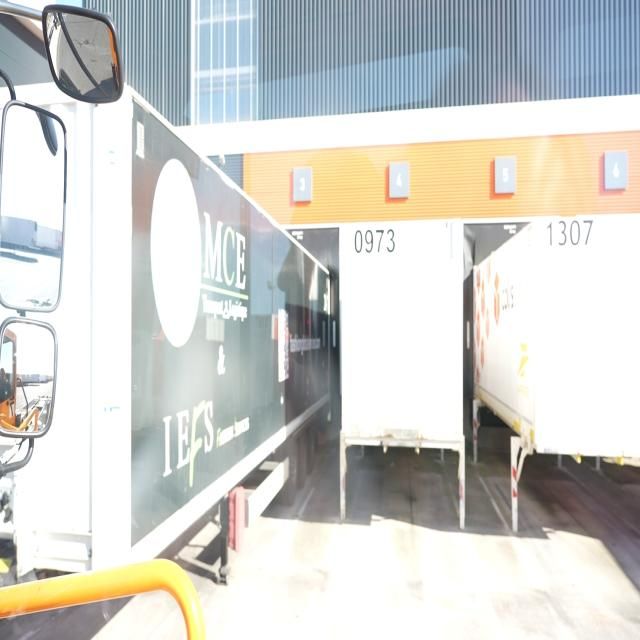Code: (546, 217, 596, 254), (352, 225, 400, 257)
